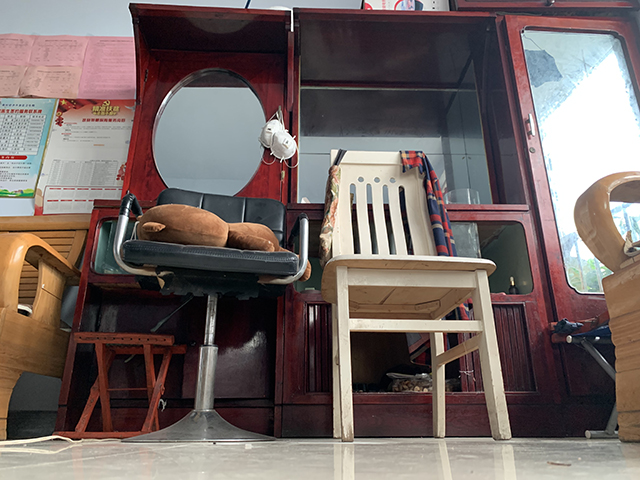sofa: (1, 213, 92, 438)
stool: (320, 148, 514, 443), (107, 186, 312, 445), (52, 330, 188, 440)
